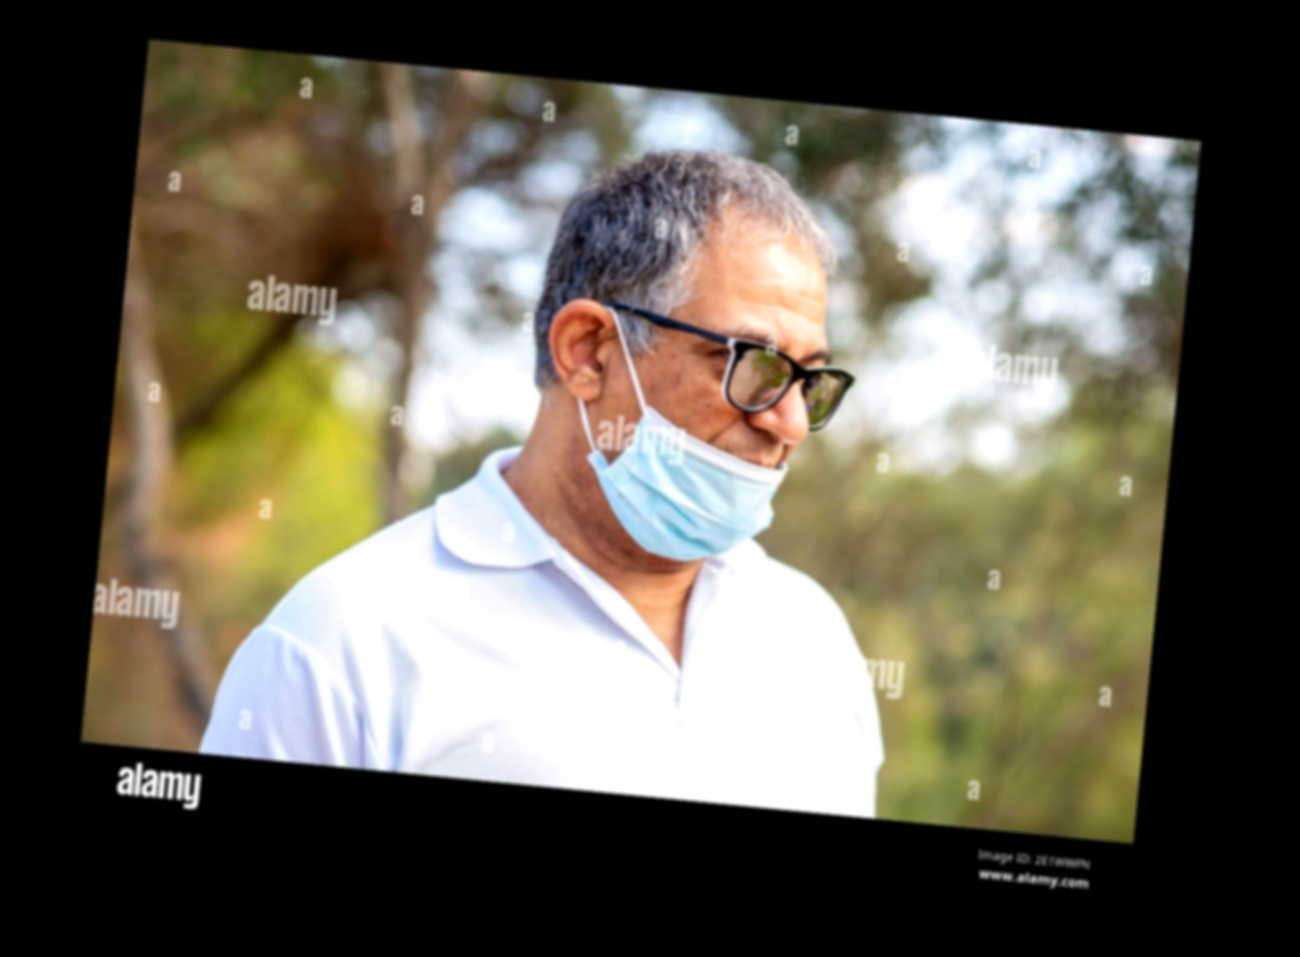mask_weared_incorrect: (582, 216, 835, 558)
